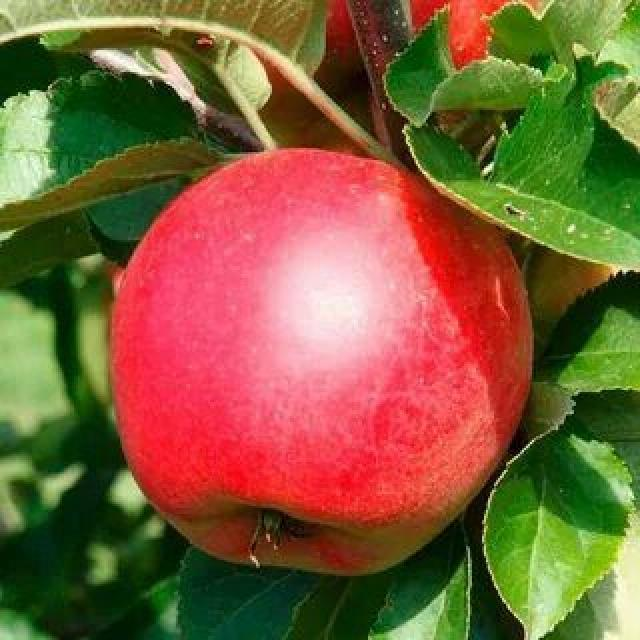Fresh Apple: (107, 134, 513, 564)
